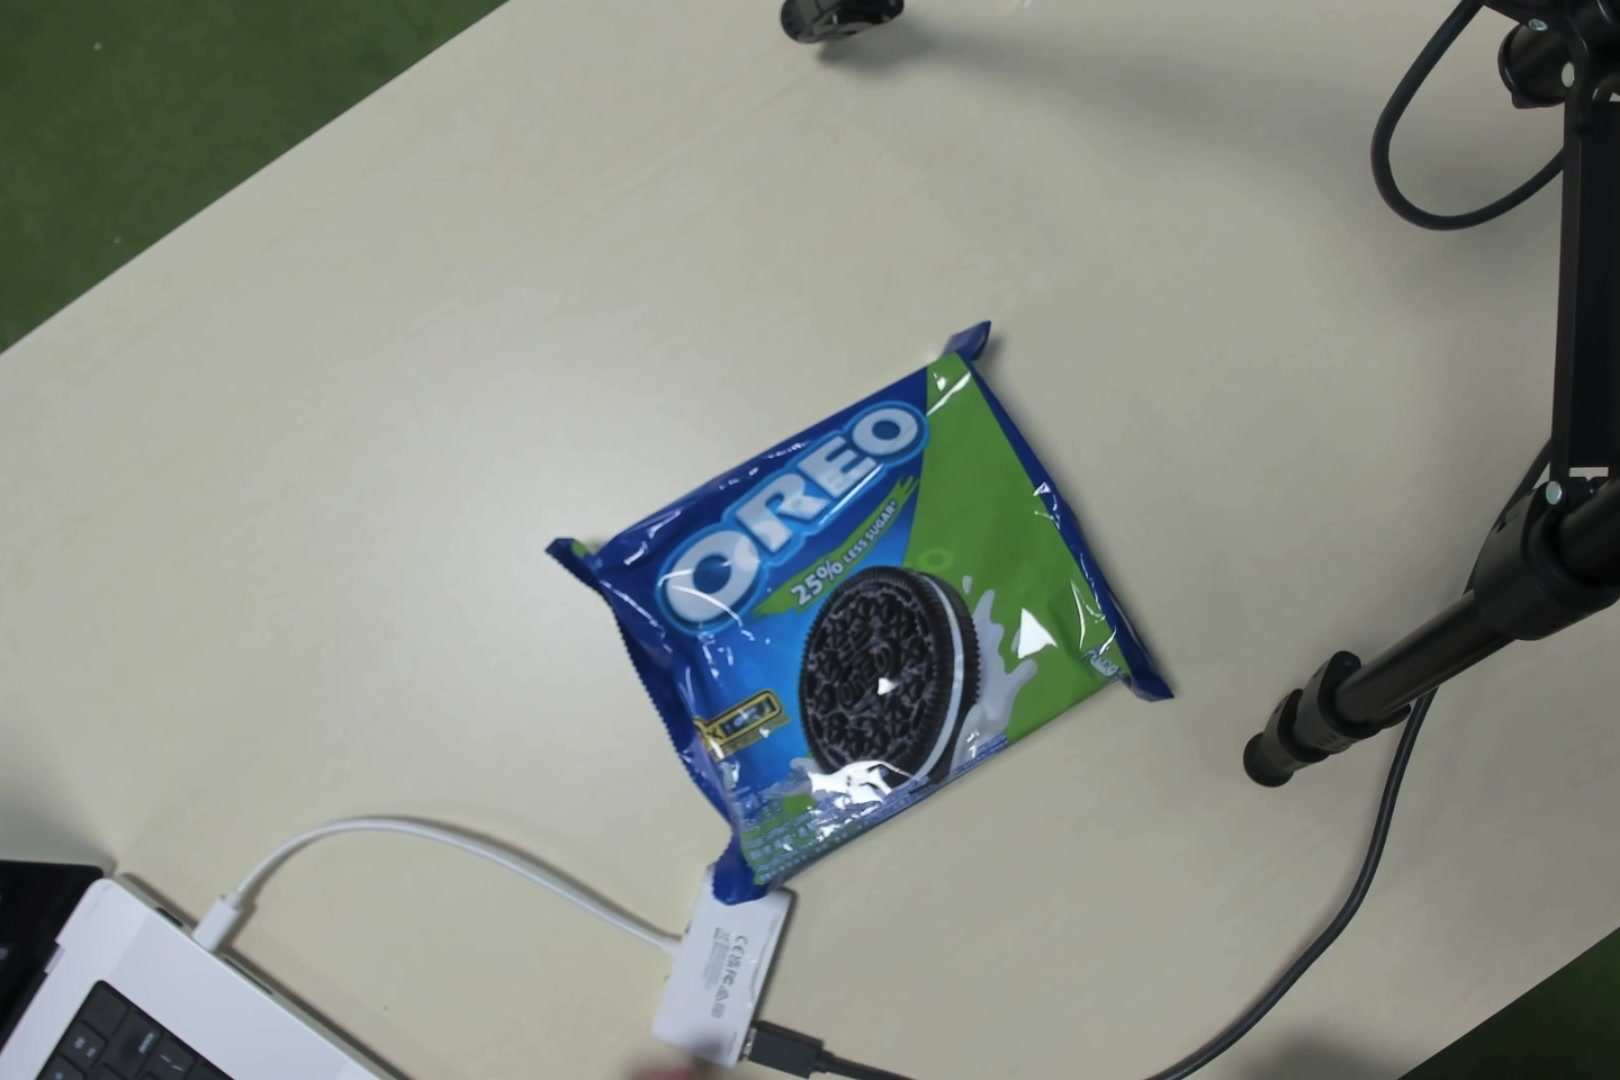SweetsChocolatesOthers_200-299g_Halal_NonHealthy: (636, 370, 1088, 858)
